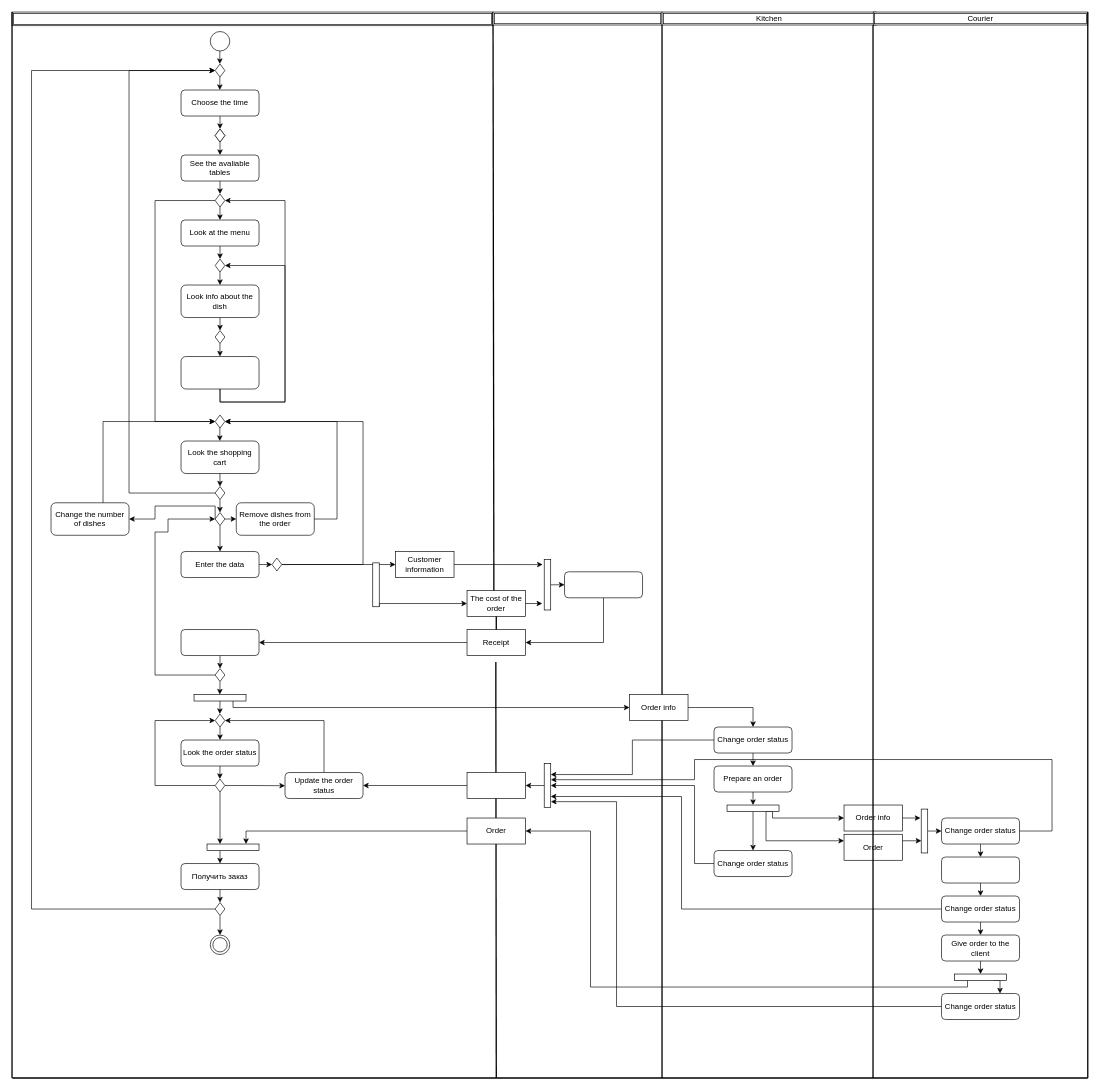
Some shapes in this 1100 by 1090 pixel diagram are drawn without their labels. Each missing label, with the box of its shape:
Add a dish to the order: (180, 356, 259, 389)
Bank System: (492, 11, 662, 25)
Client: (11, 11, 493, 26)
Deliver order: (941, 856, 1020, 883)
Get the receipt: (180, 629, 259, 656)
Make a payment: (564, 571, 643, 598)
Order status: (466, 772, 526, 799)
